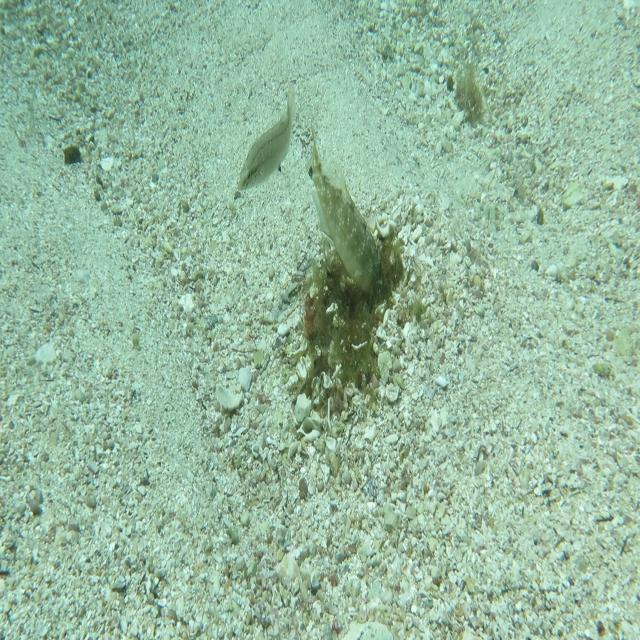NIP_CORE: (303, 124, 387, 302)
female: (237, 79, 297, 193)
nest: (292, 206, 424, 426)
vegetation: (448, 56, 483, 128), (62, 144, 83, 166)
